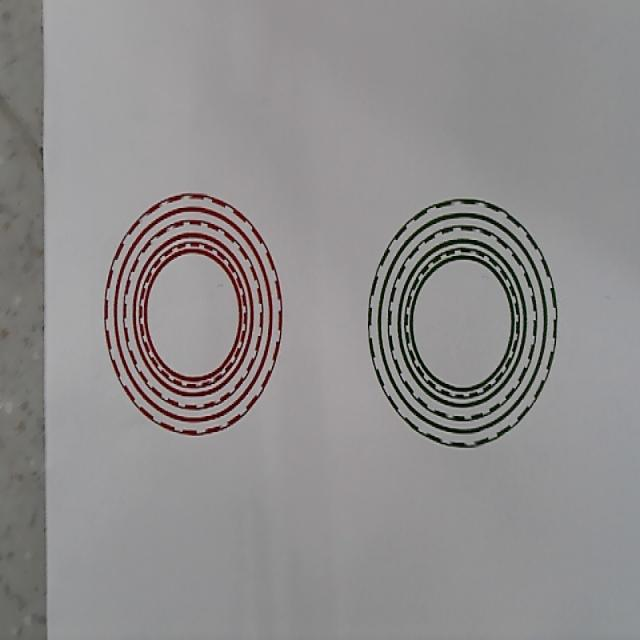g: (368, 198, 557, 448)
red-green-blue: (104, 191, 283, 435)
